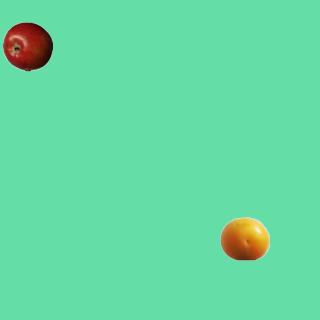Apple Braeburn: (2, 21, 52, 71)
Cherry Wax Yellow: (219, 213, 269, 263)
